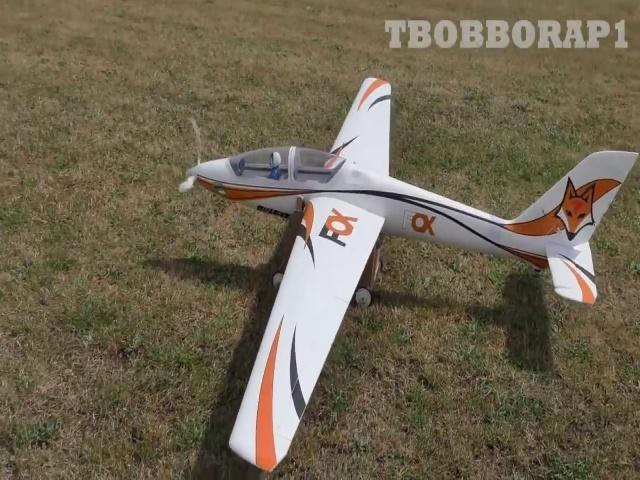Airplane: (185, 77, 640, 472)
